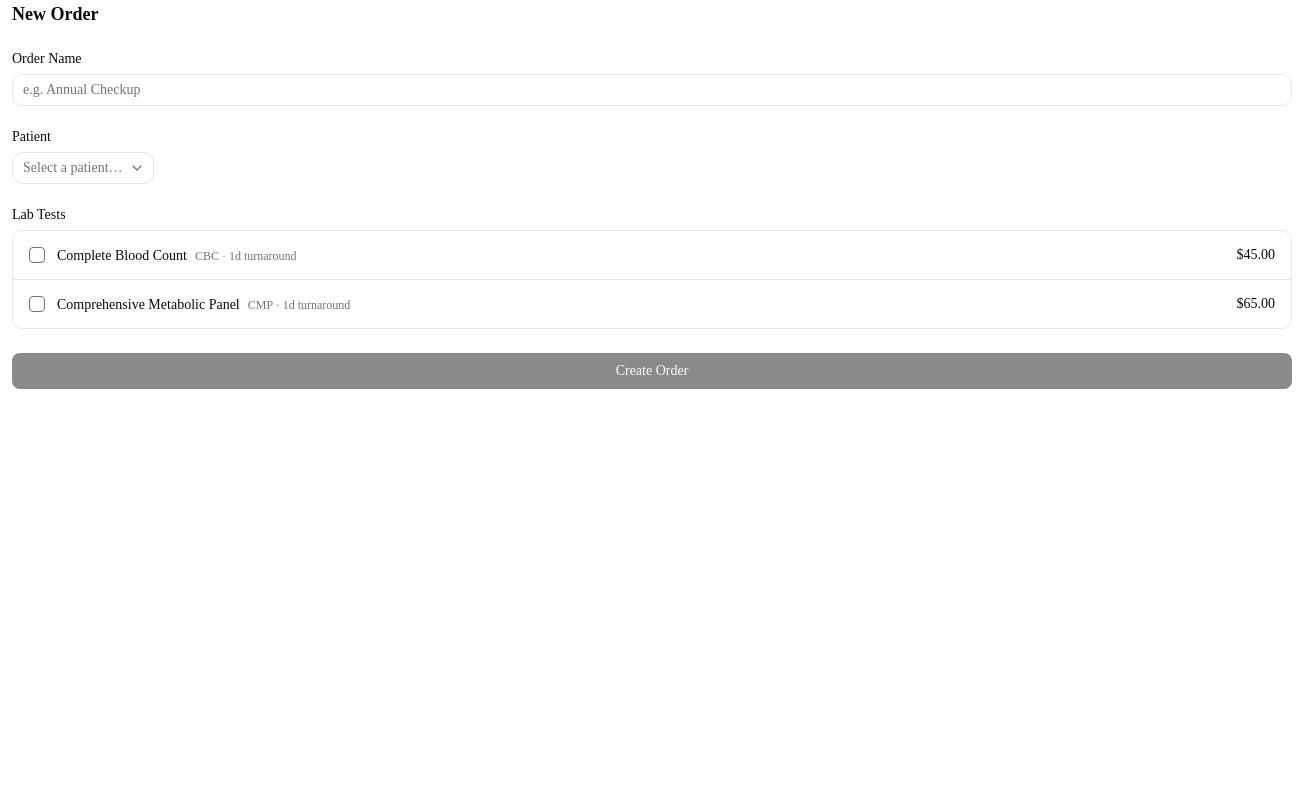
Test: NewOrderForm › selecting a lab test shows it in the order summary
The width and height of the screenshot is (1304, 800).
Expected: the text "Order Summary" is not shown
Click the button "Complete Blood Count": click(122, 256) [13,231,1291,280]
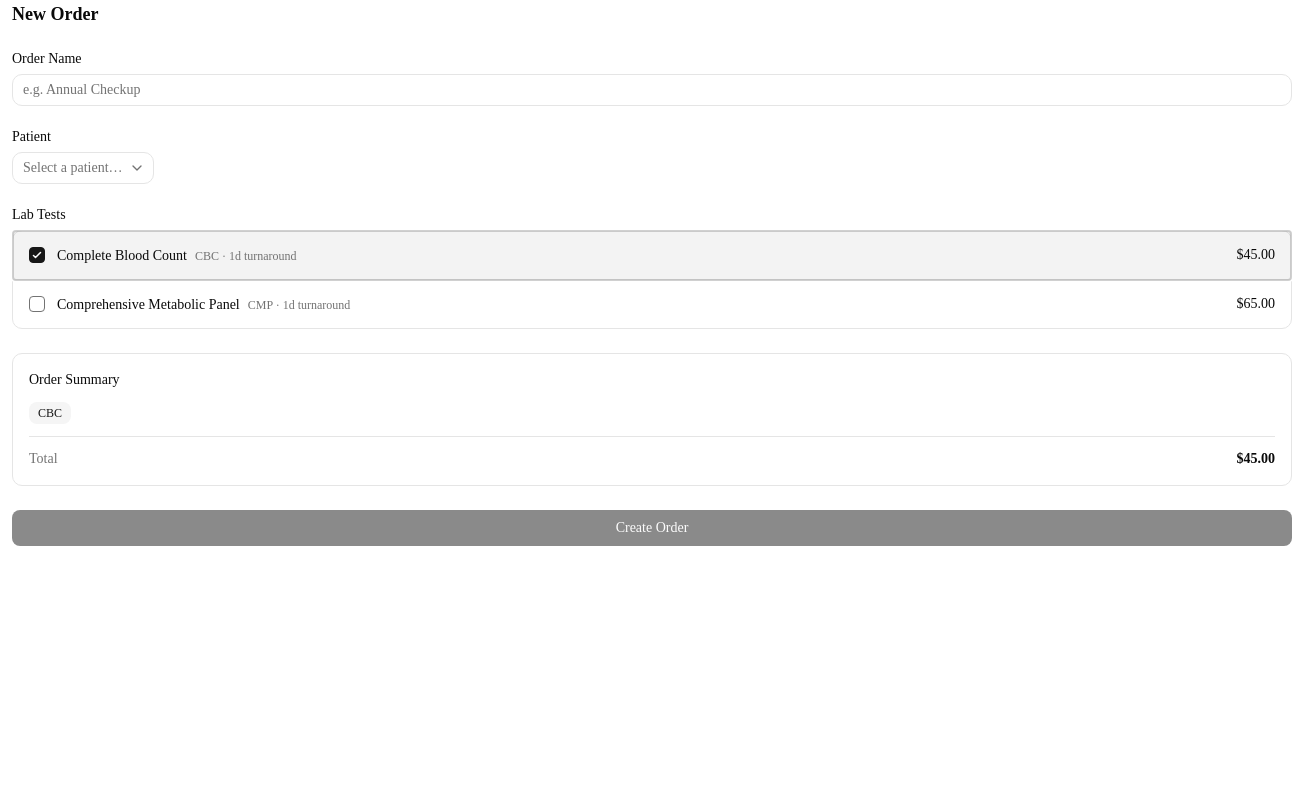
Expected: the text "CBC" is shown, [29,402,71,424]
Expected: the text "$45.00" in the row of "Total" is shown, [1236,449,1275,469]
